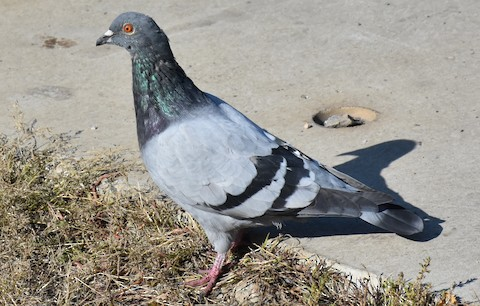pigeon: (95, 11, 429, 297)
